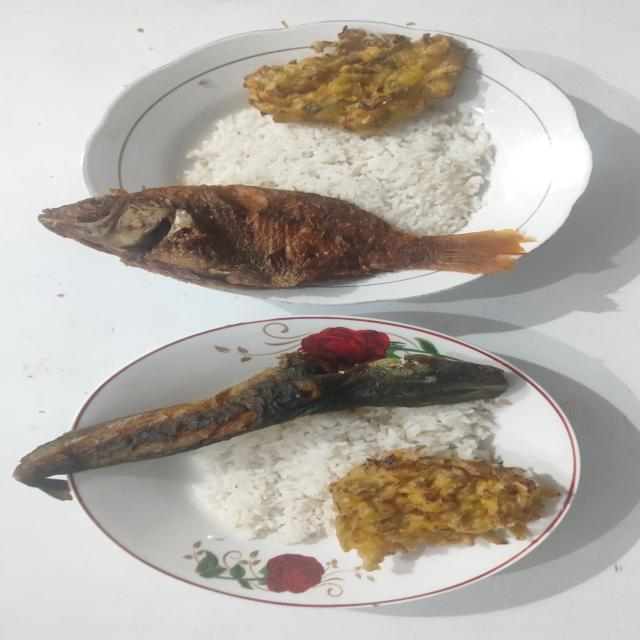ikan_mujair: (39, 184, 532, 290)
nasi_putih: (194, 400, 500, 544), (183, 110, 496, 236)
